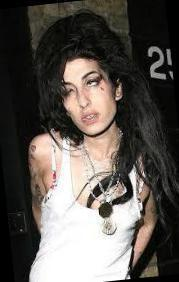Drunk: (61, 63, 114, 131)
